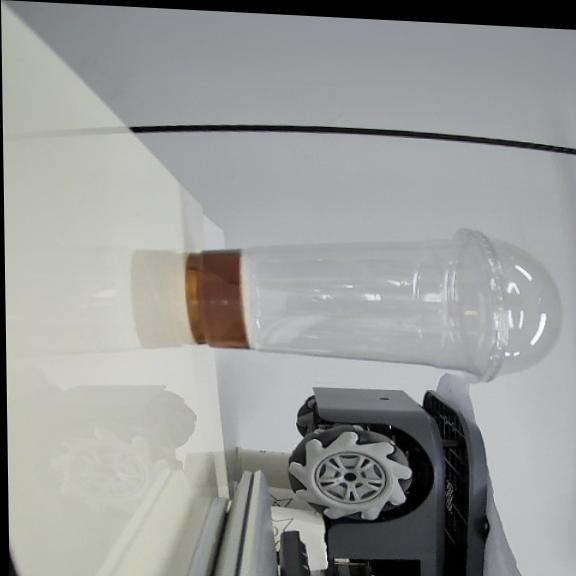Plastik: (185, 230, 559, 382)
